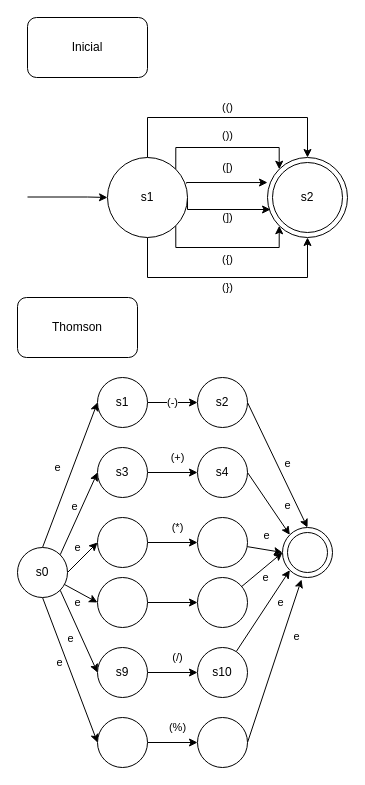
The diagram is 365 pixels wide and 785 high, and some of its shapes have lost their labels. Here are the shapes that lost their labels. From the top down, the centre of each, then its label:
(x=122, y=542): s5
(x=222, y=542): s6
(x=307, y=552): s13
(x=122, y=602): s7
(x=222, y=602): s8
(x=122, y=742): s11
(x=222, y=742): s12
